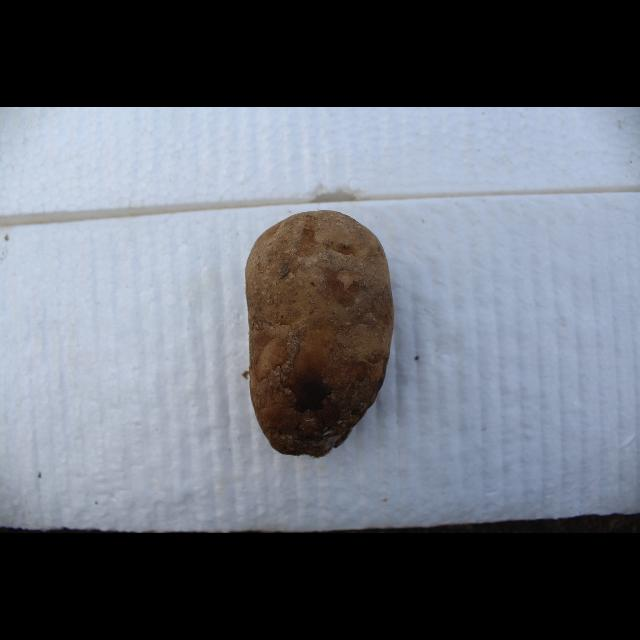Diseased-fungal potato: (240, 208, 394, 462)
